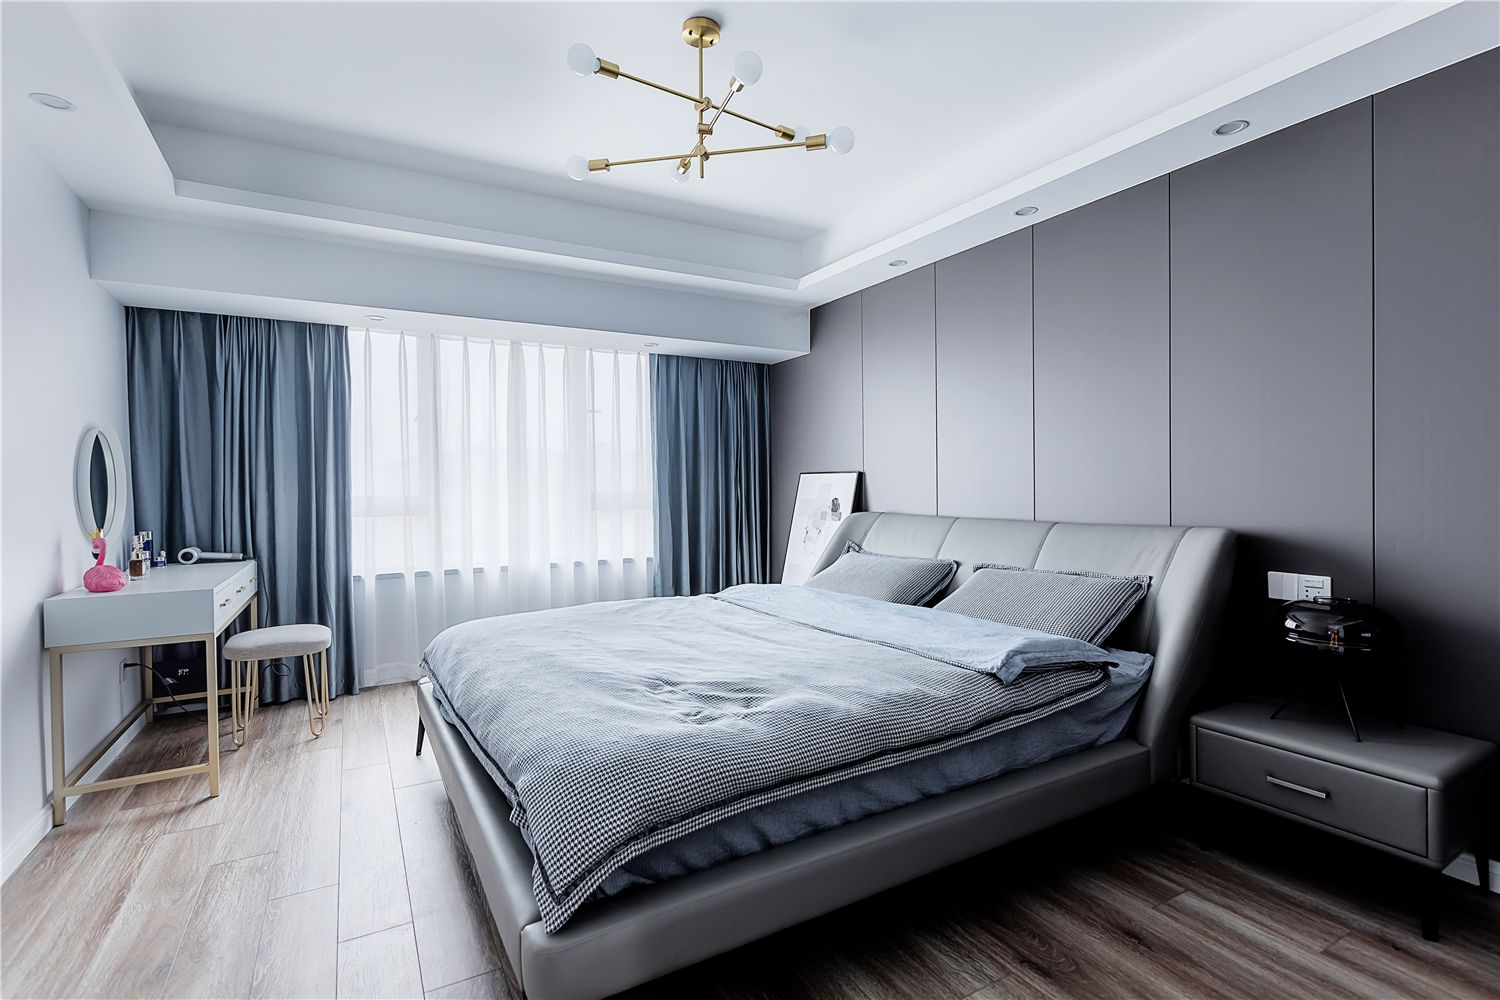床: (414, 577, 1144, 985)
枕头: (805, 541, 1128, 650)
灯: (559, 15, 852, 194), (21, 92, 76, 116), (1206, 117, 1243, 141), (1006, 208, 1030, 225)
